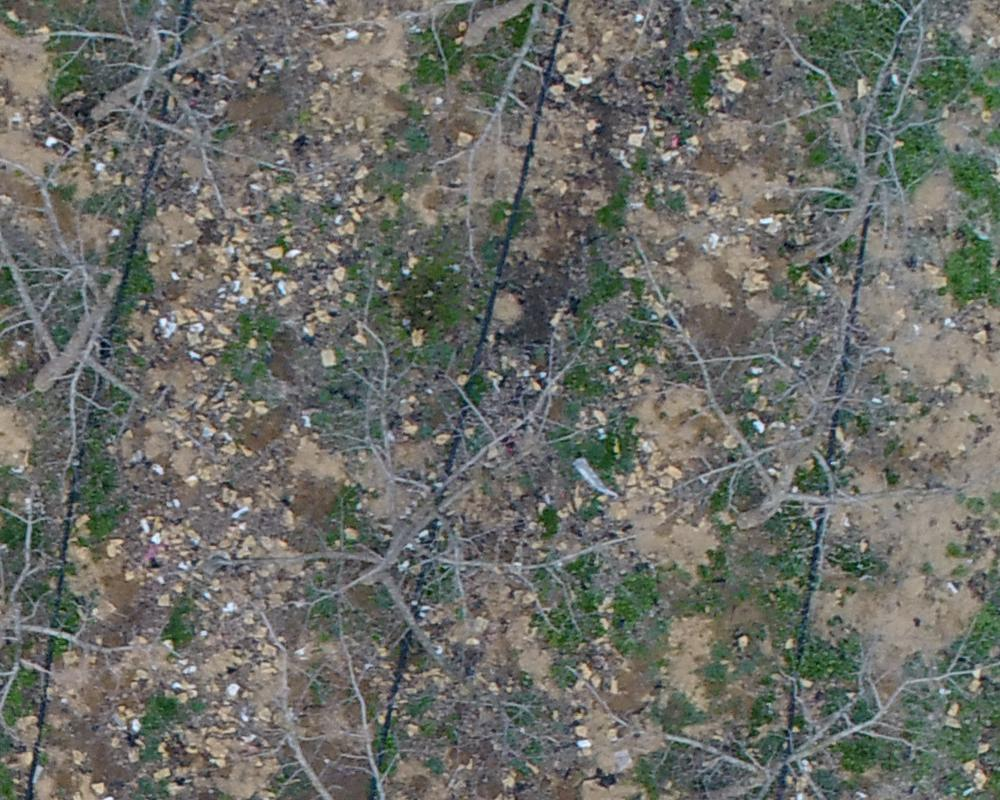apple: (233, 331, 557, 691), (617, 256, 943, 572), (117, 613, 518, 790), (10, 135, 203, 490), (24, 10, 304, 221), (765, 10, 984, 278), (614, 650, 990, 790), (10, 484, 145, 756)
